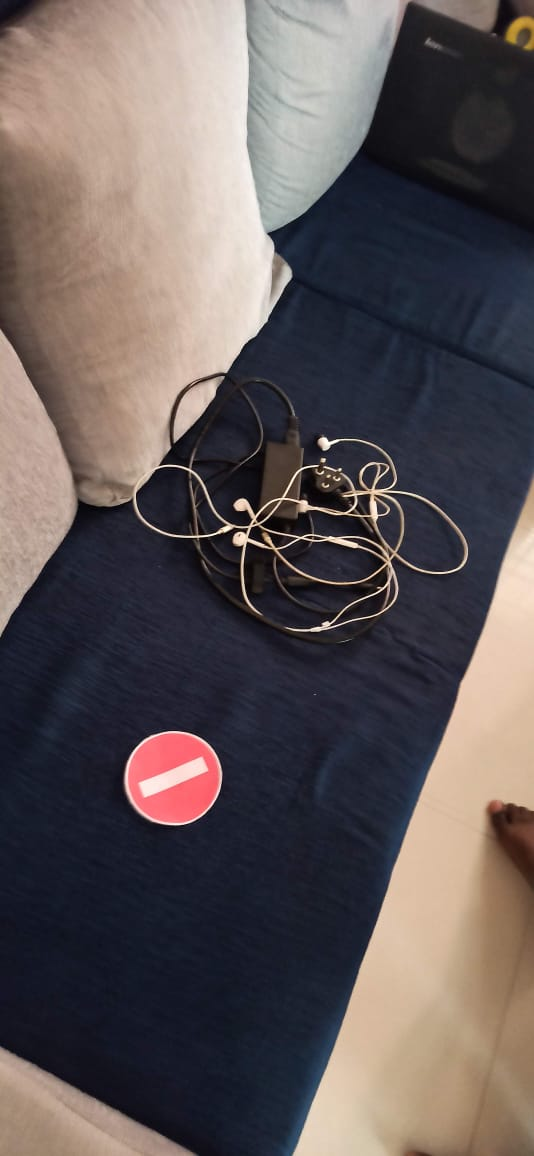NO ENTRY: (91, 712, 231, 842)
